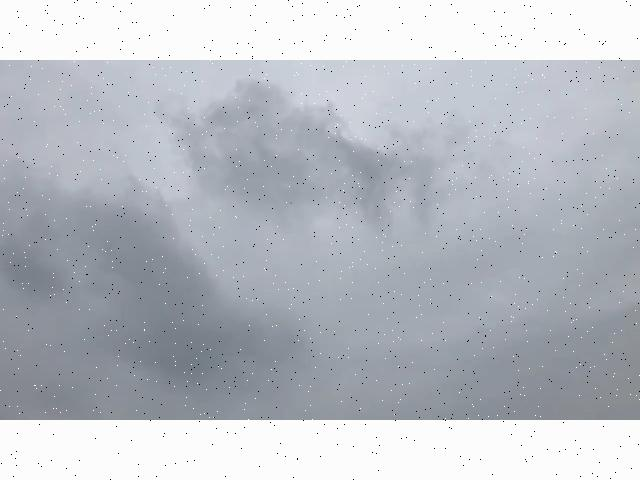Anti-Drone: (278, 196, 296, 206)
